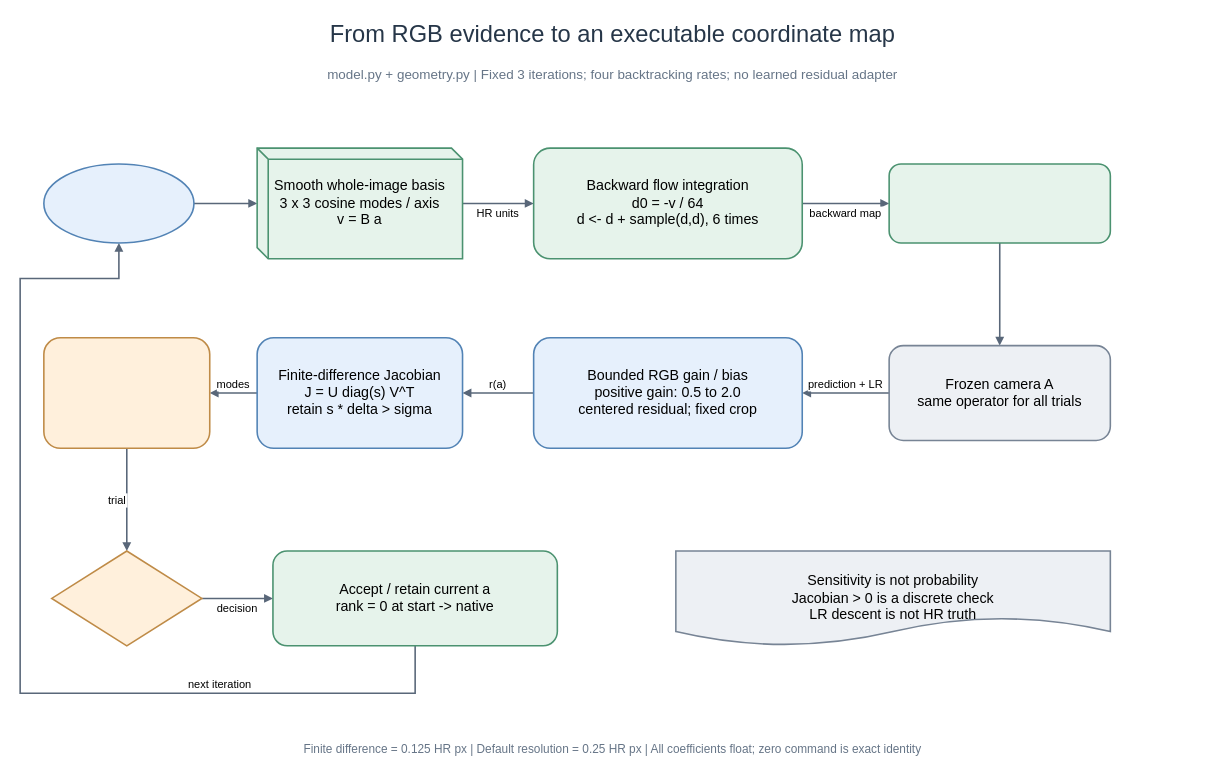
This 1210x773 diagram has some shape labels left out. Each missing label, with the box of its shape:
Coefficients a 18 floats: (43, 163, 194, 243)
Damped step cap motion fixed line search: (43, 337, 210, 449)
RGB resampling x(a) = x0(p + d): (888, 163, 1111, 243)
Safe descent?: (51, 550, 202, 646)
